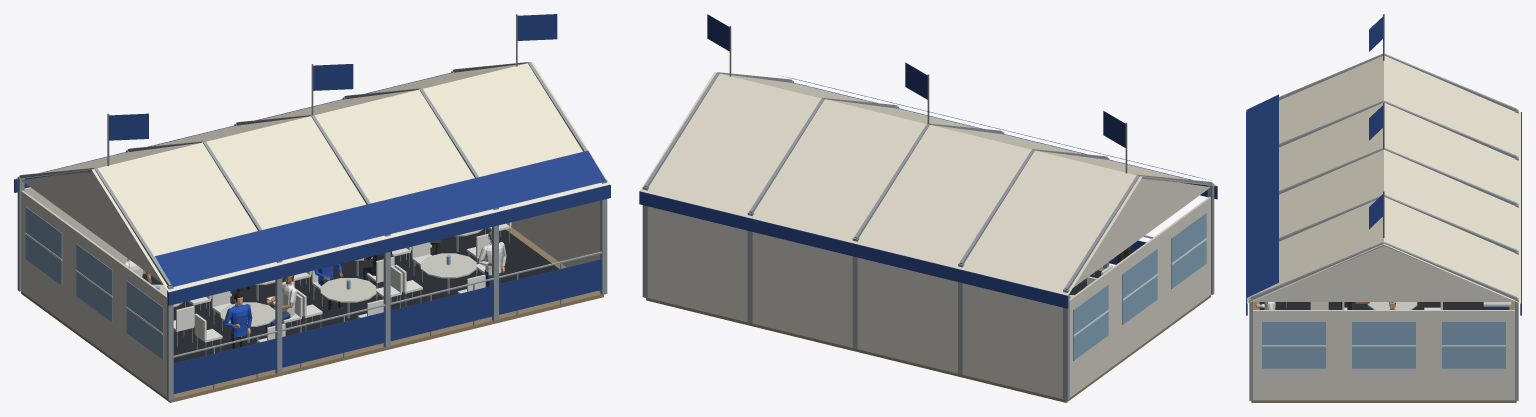
File: marquee.glb
3 renders of one model, left to right at view 1: azimuth 30°, elevation 25°; view 2: azimuth 150°, elevation 25°; view 3: azimuth 270°, elevation 25°, orthographic. The views are drawn at different scales.
Visible parts, largest first — view 1: Tent, Guests, Flag1, Flag2, Flag0, Track, Track.001; view 2: Tent, Flag1, Flag2, Flag0; view 3: Tent, Flag0, Flag2, Flag1, Guests.
Part boxes in pixels (left/top/right/bottom): Tent: left=14, top=62, right=610, bottom=402; Guests: left=124, top=240, right=440, bottom=335; Flag1: left=313, top=64, right=353, bottom=90; Flag2: left=517, top=14, right=557, bottom=40; Flag0: left=109, top=113, right=148, bottom=140; Track: left=224, top=293, right=252, bottom=348; Track.001: left=478, top=231, right=506, bottom=286; Tent: left=639, top=72, right=1217, bottom=402; Flag1: left=905, top=62, right=927, bottom=99; Flag2: left=707, top=14, right=729, bottom=51; Flag0: left=1103, top=111, right=1125, bottom=147; Tent: left=1246, top=53, right=1521, bottom=402; Flag0: left=1369, top=16, right=1383, bottom=51; Flag2: left=1369, top=193, right=1383, bottom=229; Flag1: left=1369, top=105, right=1383, bottom=140; Guests: left=1339, top=302, right=1395, bottom=309.
Bounding box in the file's own units: 10.98 × 5.3 × 6.44.
